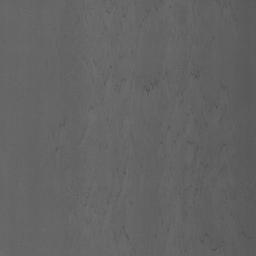Silk spot: (187, 141, 203, 163), (114, 225, 129, 241), (144, 79, 158, 96), (194, 119, 208, 129), (191, 69, 200, 80)
